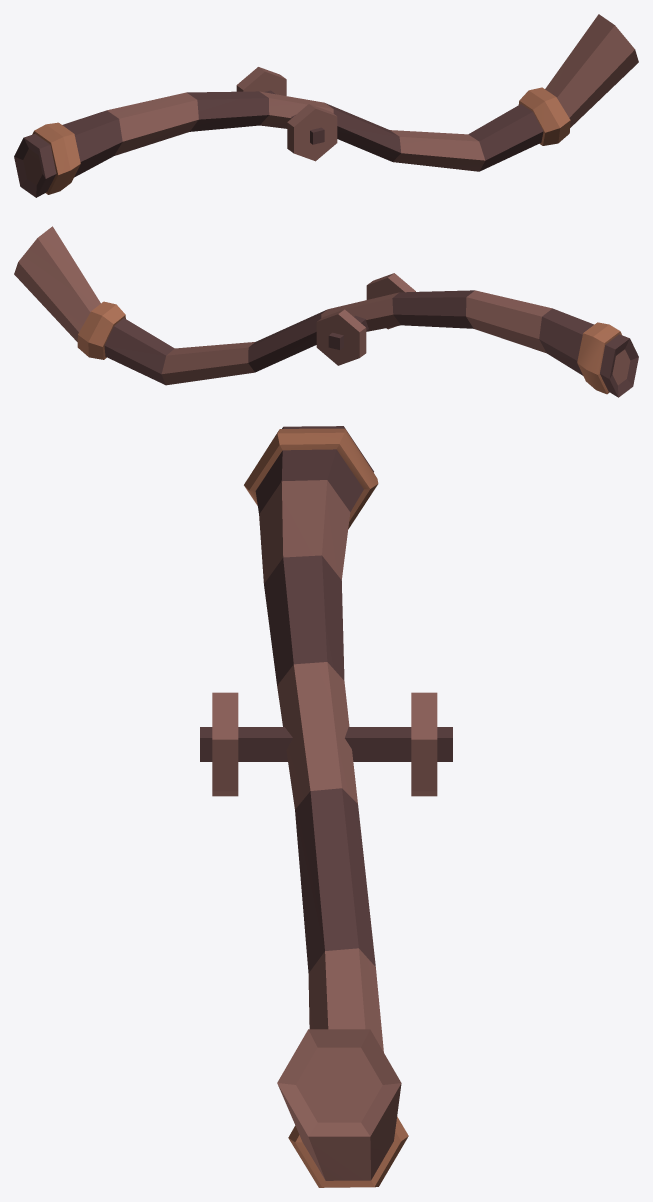
File: SeeSawColliders.fbx
3 renders of one model, top to bottom at view 1: azimuth 30°, elevation 25°; view 2: azimuth 150°, elevation 25°; view 3: azimuth 270°, elevation 25°, orthographic. The views are drawn at different scales.
Parts seen in each view (by area): view 1: Weight__1__detach, Weight__1__detach_6, Weight__1__detach_2, Weight__1__detach_1, Weight__1__detach_5, Weight__1__detach_7, Weight__1__detach_11, Weight__1__detach_3, Weight__1_, Weight__1__detach_8, Weight__1__detach_9, Weight__1__detach_4 (+1 smaller); view 2: Weight__1__detach, Weight__1__detach_6, Weight__1__detach_2, Weight__1__detach_5, Weight__1__detach_1, Weight__1__detach_3, Weight__1__detach_7, Weight__1__detach_12, Weight__1_, Weight__1__detach_8, Weight__1__detach_9, Weight__1__detach_4 (+2 smaller); view 3: Weight__1__detach, Weight__1__detach_3, Weight__1__detach_4, Weight__1__detach_5, Weight__1__detach_6, Weight__1__detach_2, Weight__1__detach_10, Weight__1__detach_8, Weight__1__detach_7, Weight__1__detach_11, Weight__1__detach_12, Weight__1__detach_9.
Part boxes in pixels (x1,y1,x2,y2): Weight__1__detach: (545, 14, 638, 127); Weight__1__detach_6: (107, 92, 198, 155); Weight__1__detach_2: (390, 130, 485, 171); Weight__1__detach_1: (468, 104, 543, 171); Weight__1__detach_5: (187, 91, 269, 131); Weight__1__detach_7: (62, 110, 122, 177); Weight__1__detach_11: (287, 104, 337, 161); Weight__1__detach_3: (325, 103, 401, 161); Weight__1_: (14, 134, 56, 197); Weight__1__detach_8: (32, 122, 80, 194); Weight__1__detach_9: (518, 87, 570, 145); Weight__1__detach_4: (260, 91, 333, 128); Weight__1__detach: (14, 226, 100, 341); Weight__1__detach_6: (466, 290, 552, 353); Weight__1__detach_2: (161, 342, 254, 385); Weight__1__detach_5: (392, 290, 474, 328); Weight__1__detach_1: (104, 318, 174, 385); Weight__1__detach_3: (248, 310, 326, 372); Weight__1__detach_7: (539, 308, 594, 375); Weight__1__detach_12: (316, 309, 366, 365); Weight__1_: (600, 334, 638, 397); Weight__1__detach_8: (577, 322, 621, 394); Weight__1__detach_9: (77, 301, 125, 359); Weight__1__detach_4: (321, 292, 400, 331); Weight__1__detach: (277, 1029, 401, 1180); Weight__1__detach_3: (295, 788, 375, 972); Weight__1__detach_4: (277, 662, 357, 809); Weight__1__detach_5: (264, 555, 344, 685); Weight__1__detach_6: (259, 480, 350, 583); Weight__1__detach_2: (308, 948, 383, 1052); Weight__1__detach_10: (200, 727, 452, 761); Weight__1__detach_8: (244, 428, 378, 528); Weight__1__detach_7: (255, 449, 363, 514); Weight__1__detach_11: (212, 692, 238, 796); Weight__1__detach_12: (411, 692, 437, 796); Weight__1__detach_9: (288, 1116, 408, 1187).
Bounding box in the file's own units: 1569 × 377 × 287.
